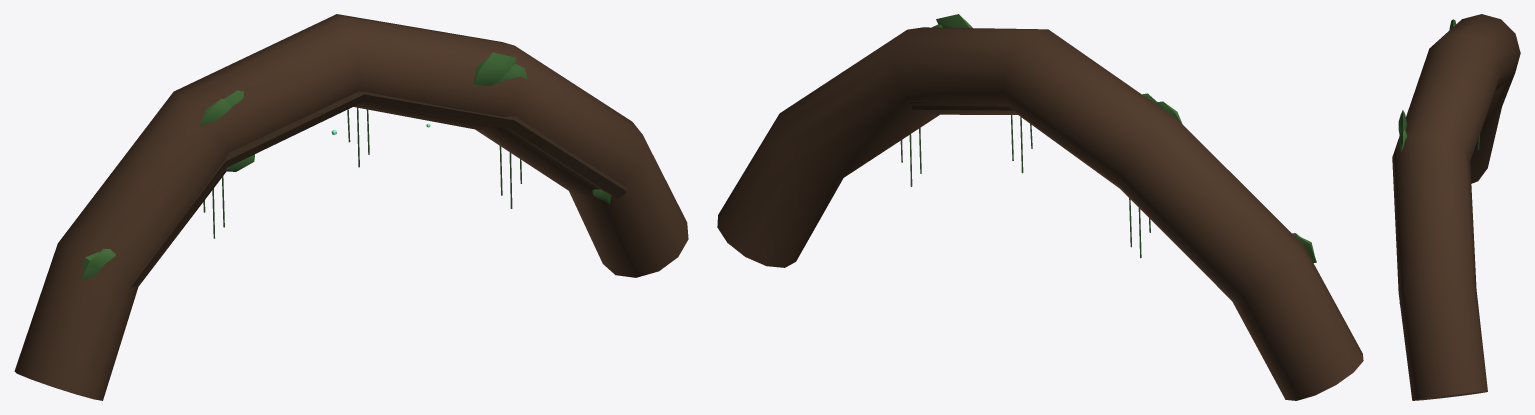
File: root_arch.glb
The picture shows the model from 3 angles, left to right: view 1: azimuth 30°, elevation 25°; view 2: azimuth 150°, elevation 25°; view 3: azimuth 270°, elevation 25°; orthographic projection. The views are drawn at different scales.
Visible parts, largest first — view 1: root_arch; view 2: root_arch; view 3: root_arch.
Boxes of the visible parts, bbox=[...] form: root_arch: bbox=[14, 14, 688, 400]; root_arch: bbox=[717, 14, 1363, 400]; root_arch: bbox=[1392, 14, 1520, 400].
Bounding box in the file's own units: 20.2 × 9.13 × 4.09.
